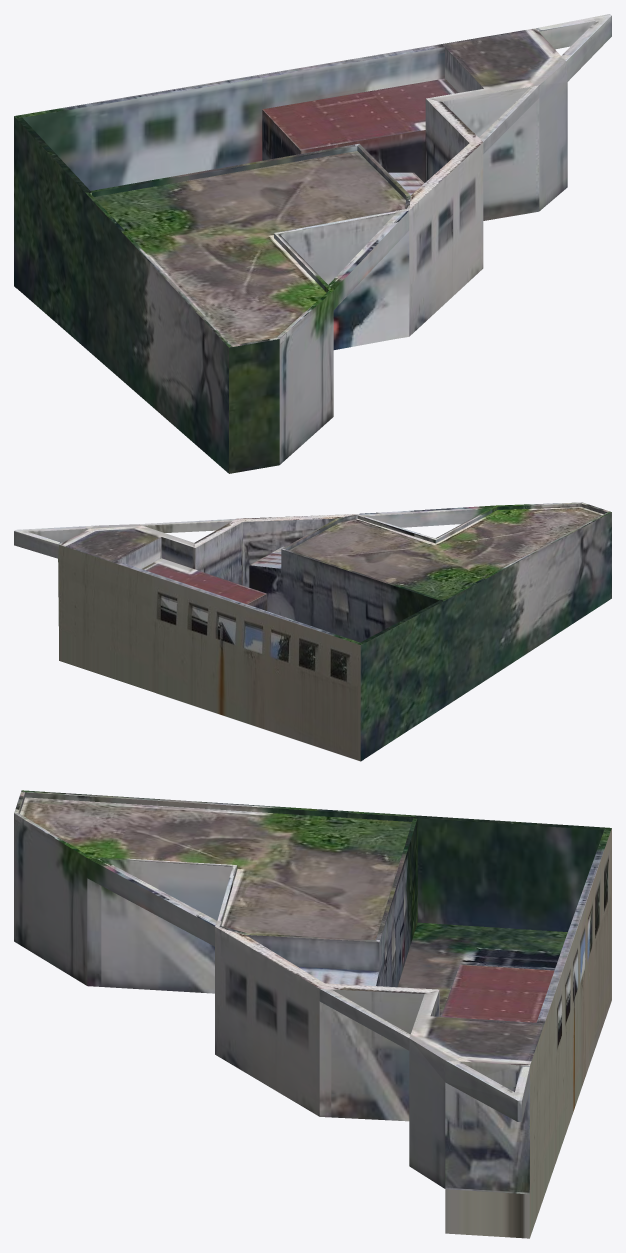
The picture shows the model from 3 angles, top to bottom: view 1: azimuth 30°, elevation 25°; view 2: azimuth 150°, elevation 25°; view 3: azimuth 270°, elevation 25°; orthographic projection. The views are drawn at different scales.
Parts seen in each view (by area): view 1: B281524036001062A0; view 2: B281524036001062A0; view 3: B281524036001062A0.
Part boxes in pixels (bbox=[...]): B281524036001062A0: bbox=[14, 14, 611, 473]; B281524036001062A0: bbox=[14, 502, 611, 761]; B281524036001062A0: bbox=[14, 790, 611, 1238].
Size of the model in its own units: 24.9 by 6.44 by 20.27.
Materials: 1 (1 with a texture image).
